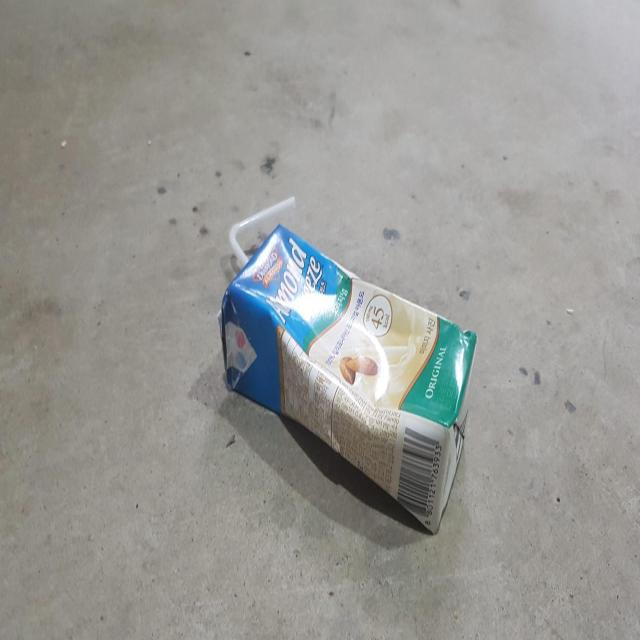paperpack: (220, 224, 477, 532)
